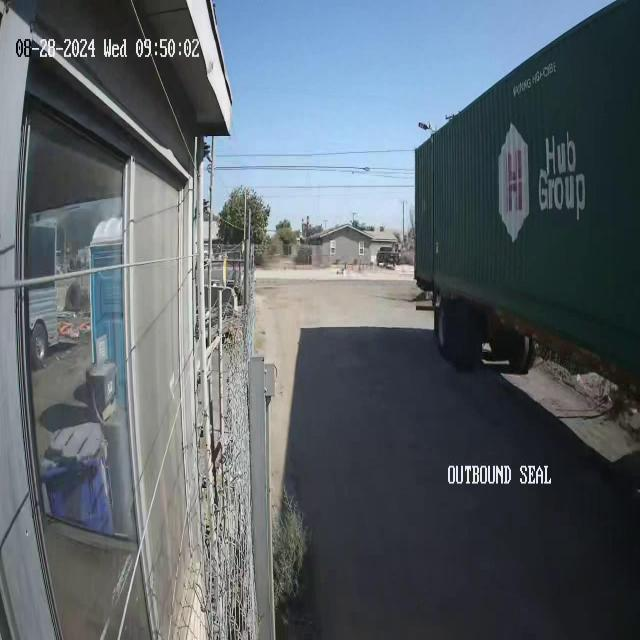CONTAINER: (414, 3, 640, 401)
